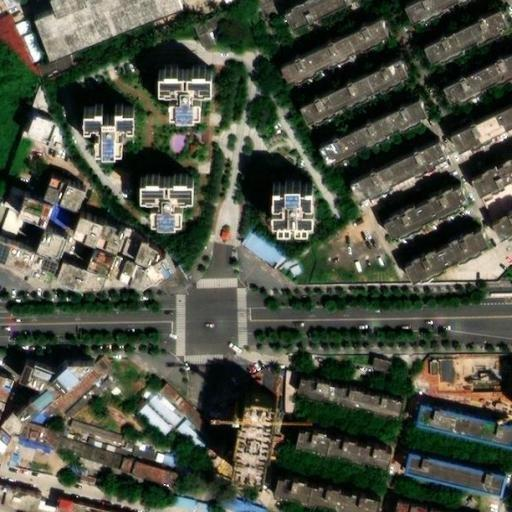building: (386, 183, 490, 260), (307, 382, 423, 434), (416, 236, 507, 299), (408, 456, 512, 511), (240, 392, 295, 483), (423, 408, 512, 458), (155, 383, 222, 445), (0, 237, 65, 288), (71, 214, 131, 269), (123, 247, 182, 298), (333, 447, 412, 483), (90, 105, 144, 156), (148, 177, 202, 228), (60, 439, 132, 477), (163, 68, 215, 117), (40, 169, 95, 214), (296, 1, 346, 46), (277, 180, 323, 224), (392, 162, 440, 201), (17, 193, 65, 231), (457, 32, 503, 70), (32, 225, 76, 264), (240, 231, 284, 270), (65, 419, 124, 446), (127, 463, 183, 491), (473, 70, 512, 110), (142, 390, 183, 428), (173, 418, 213, 456), (29, 368, 73, 401), (69, 374, 107, 412), (0, 443, 35, 482), (483, 168, 512, 215), (44, 391, 81, 426), (363, 180, 401, 214), (325, 495, 399, 512), (315, 53, 353, 85), (337, 95, 373, 128), (36, 119, 70, 153), (419, 6, 453, 40), (93, 367, 126, 402), (139, 404, 174, 437), (335, 143, 372, 174), (55, 263, 88, 297), (313, 105, 346, 138), (430, 151, 464, 182), (487, 118, 512, 160), (291, 66, 324, 97), (465, 134, 497, 165), (397, 69, 427, 102), (363, 84, 392, 118), (441, 0, 471, 30), (13, 491, 54, 512), (437, 49, 466, 78), (344, 43, 373, 72), (382, 126, 411, 154), (417, 110, 446, 138), (82, 258, 117, 280), (364, 35, 391, 62), (383, 79, 407, 109), (457, 91, 483, 118), (8, 420, 35, 446), (364, 135, 390, 161), (0, 403, 21, 434), (382, 27, 406, 54), (402, 119, 425, 145), (494, 24, 512, 55), (81, 272, 104, 296), (365, 349, 390, 370), (43, 434, 65, 456), (24, 441, 54, 457), (173, 497, 200, 512), (500, 229, 512, 260), (231, 502, 266, 512), (135, 448, 150, 461), (26, 469, 44, 479), (153, 454, 167, 466), (165, 458, 179, 469), (197, 504, 216, 512), (51, 506, 63, 512)
